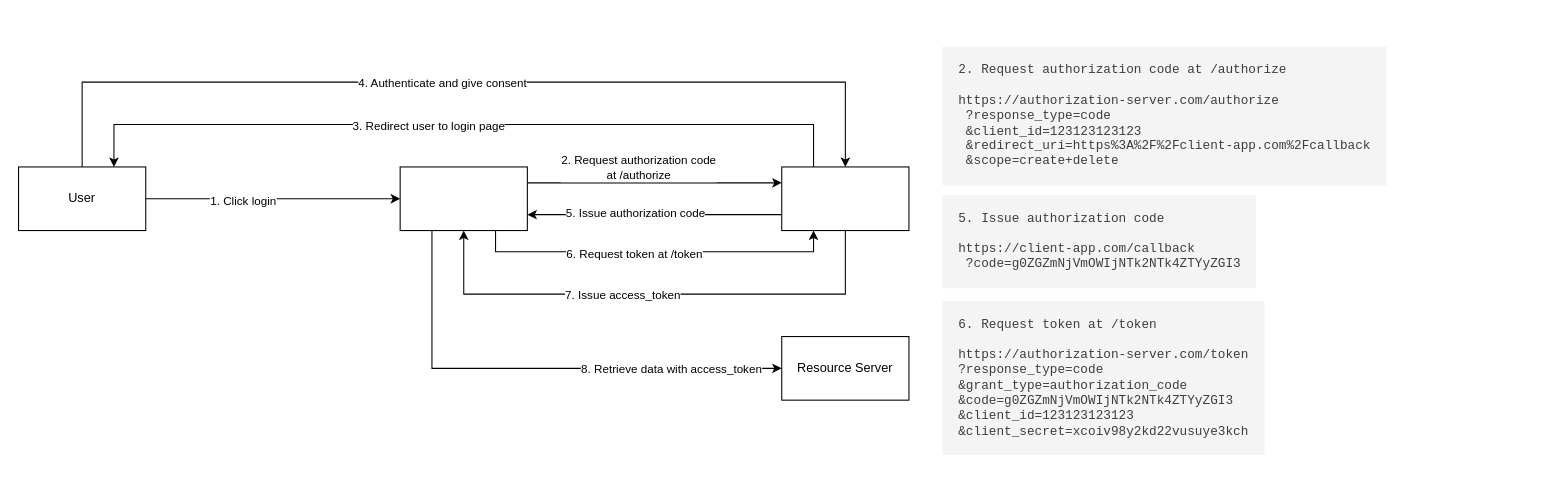
The diagram is 1553 pixels wide and 502 high, and some of its shapes have lost their labels. The shapes that lost their labels are listed below. From the top down, each one's centre as x and y in pixels, then its label:
At [463,198]: "Client (WebApp)".
At [845,198]: "Authorization Server".
